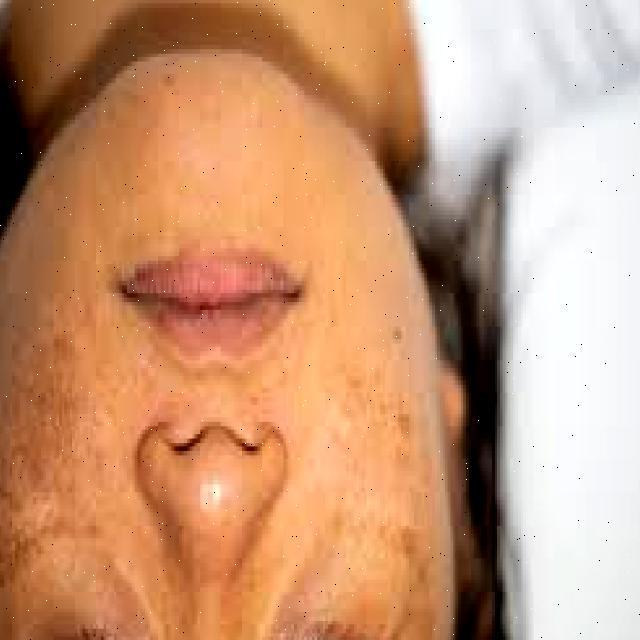Melasma: (2, 242, 156, 618), (327, 255, 450, 640), (81, 85, 342, 203)
